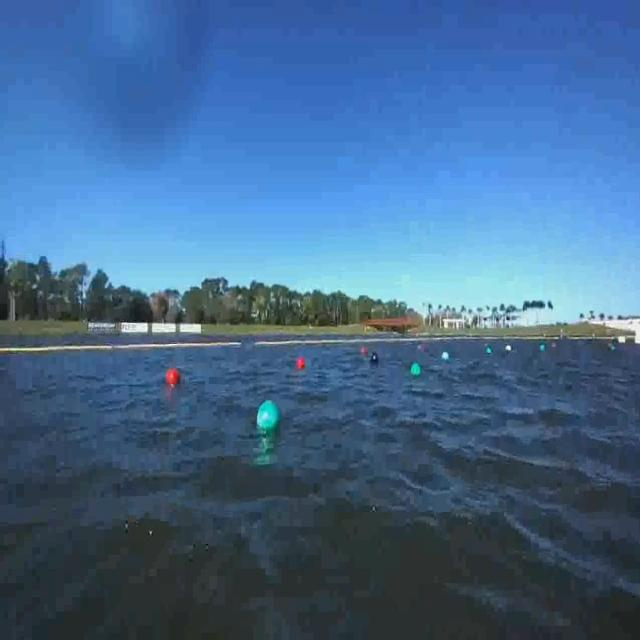black-buoy: (369, 353, 378, 365)
green-buoy: (256, 400, 281, 435), (411, 361, 422, 376)
red-buoy: (168, 368, 182, 383), (296, 357, 305, 370)
